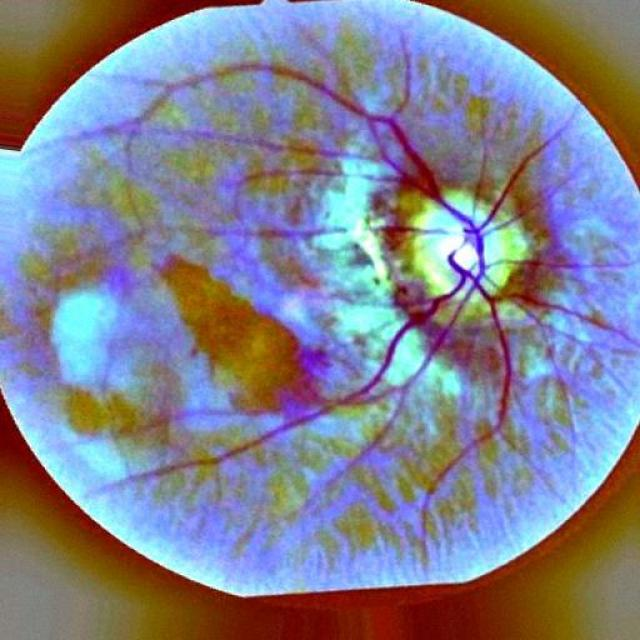Macula: (171, 260, 317, 416)
Nerves: (153, 263, 469, 476), (156, 64, 478, 234), (417, 279, 515, 563)
Optic Disk: (316, 175, 532, 325)
